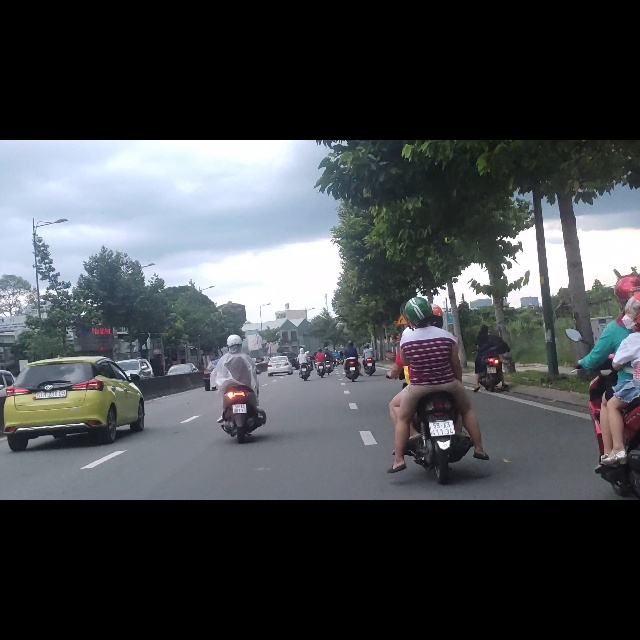bien_nguy_hiem: (396, 309, 408, 329)
